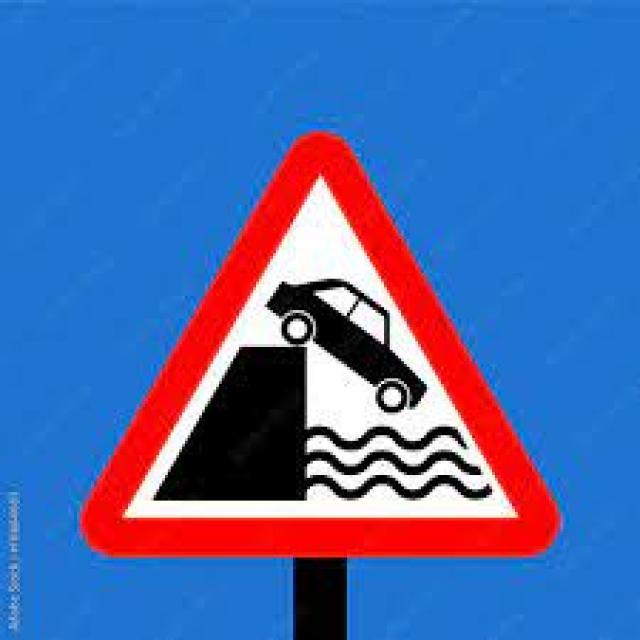quay side or river bank: (72, 121, 564, 566)
